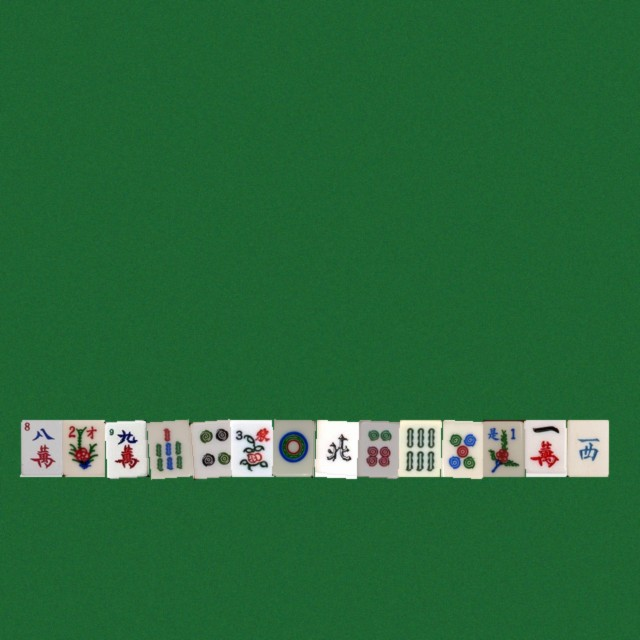tile: (20, 419, 62, 476), (62, 419, 104, 476), (104, 419, 146, 476), (146, 419, 188, 476), (188, 419, 230, 476), (230, 419, 272, 476), (272, 419, 314, 476), (314, 419, 356, 476), (356, 419, 398, 476), (398, 419, 440, 476), (440, 419, 482, 476), (482, 419, 524, 476), (524, 419, 566, 476), (566, 419, 608, 476)
